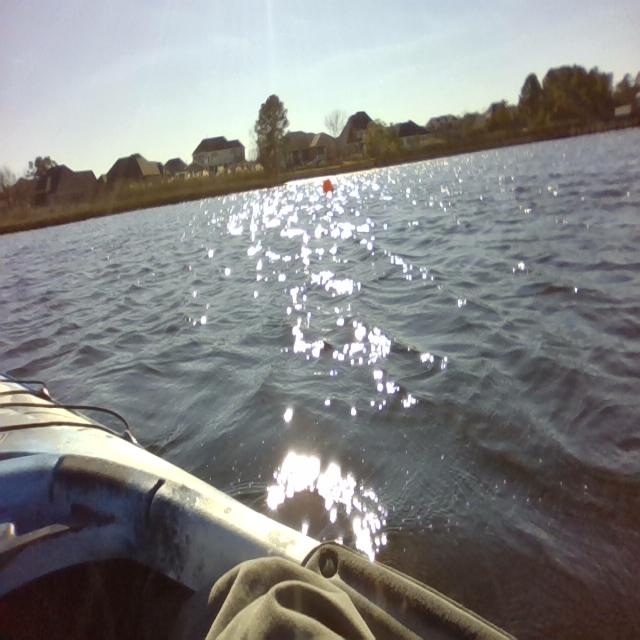Buoy: (316, 171, 339, 200)
